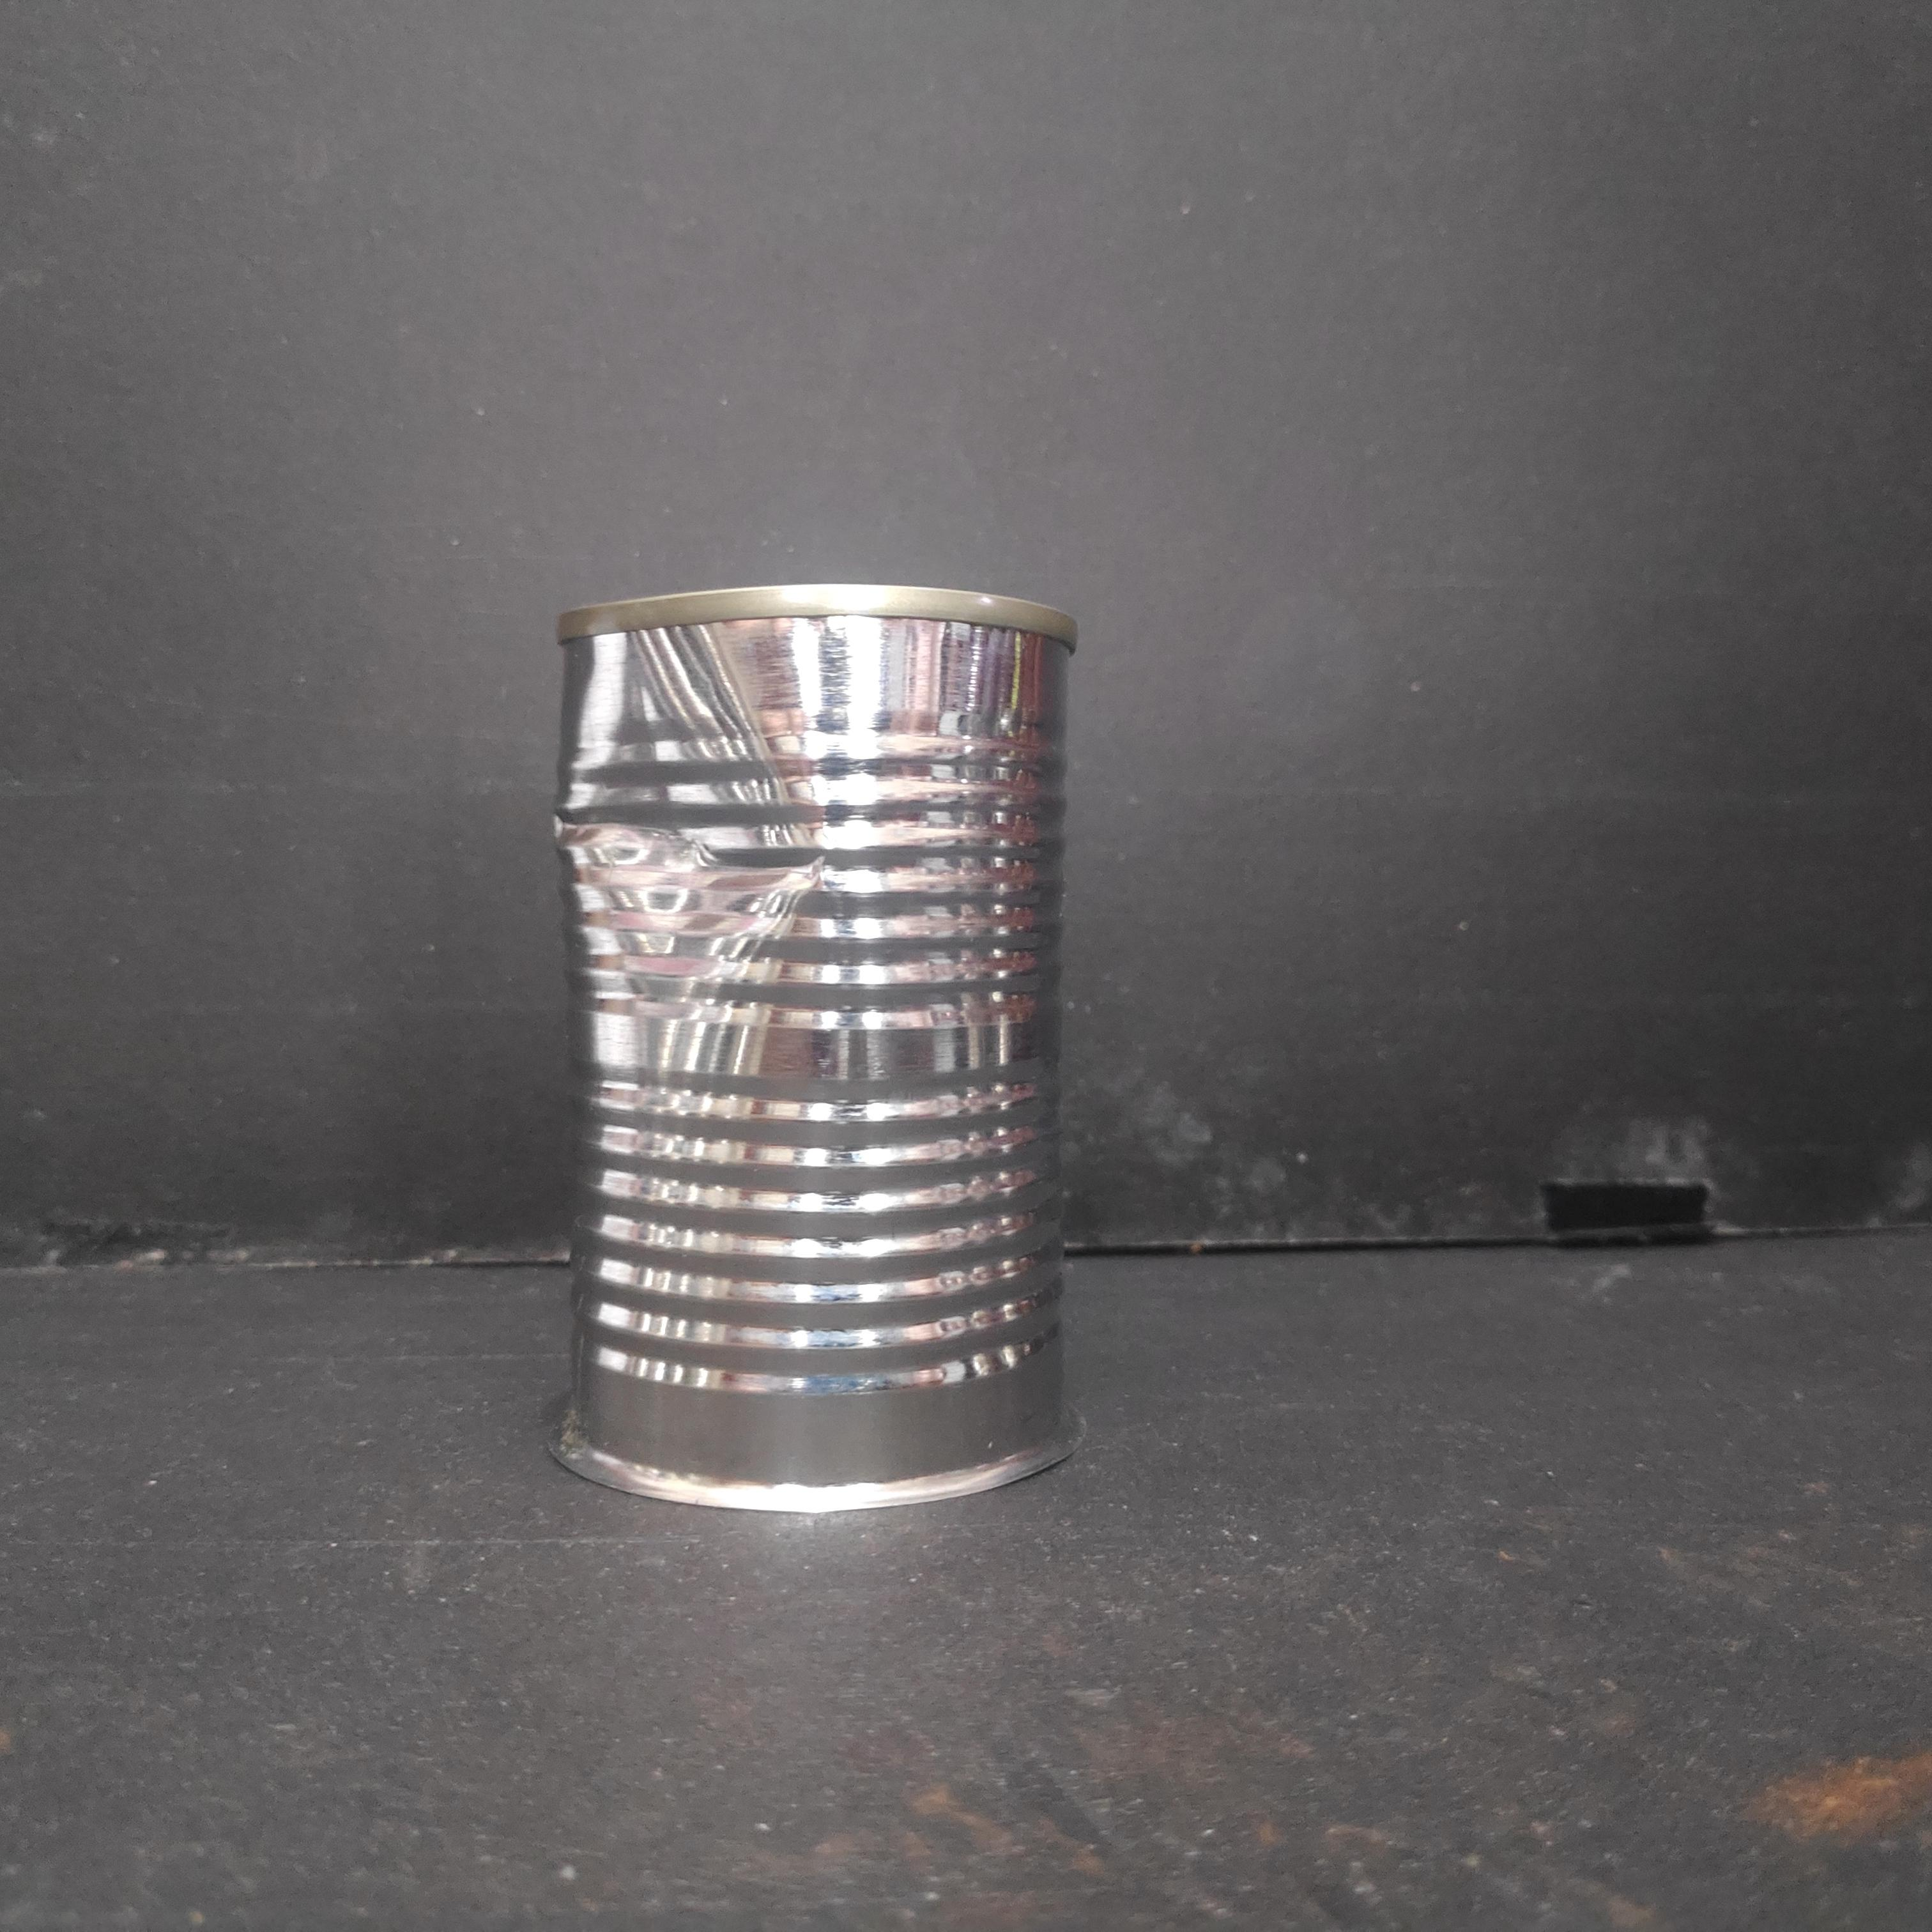Minor Defect: (548, 582, 1085, 1510)
